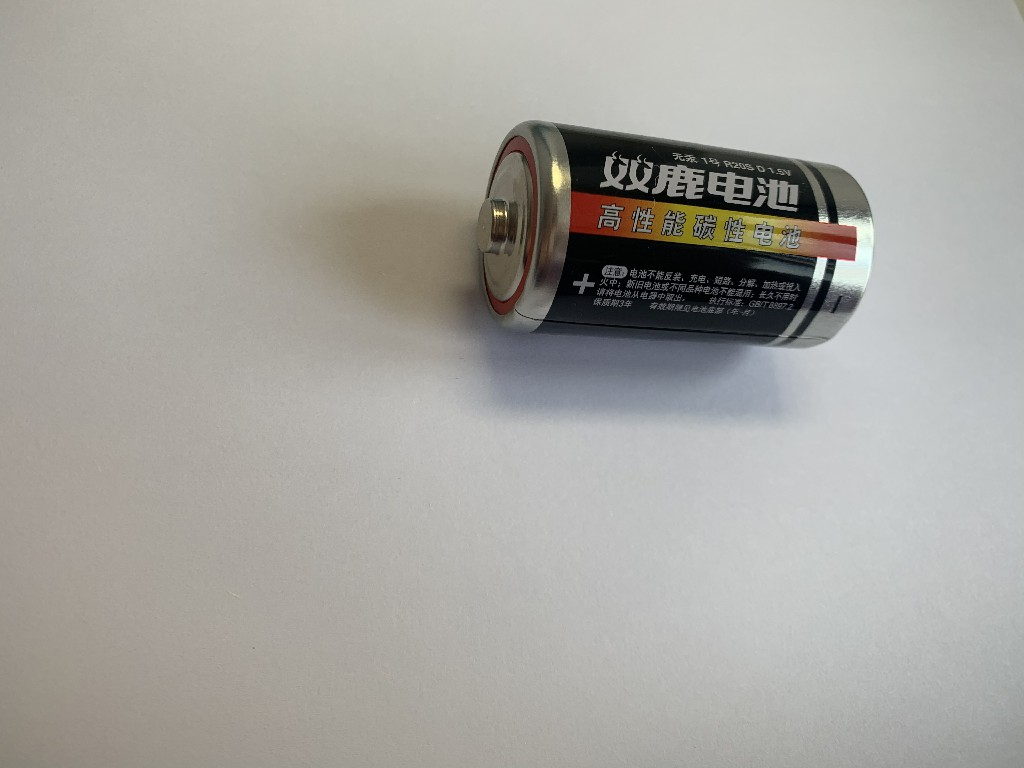charge: (462, 110, 883, 358)
